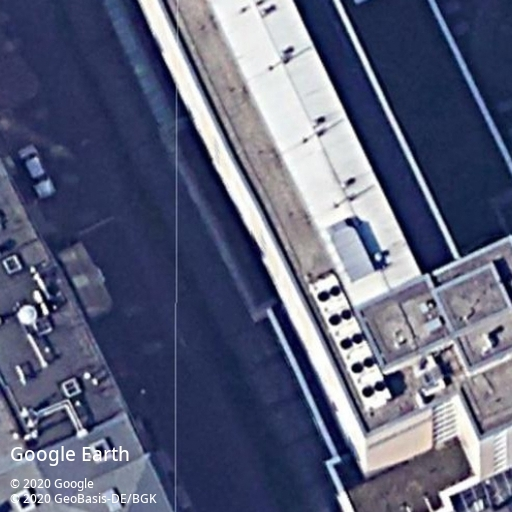Chiller: (309, 271, 393, 411)
